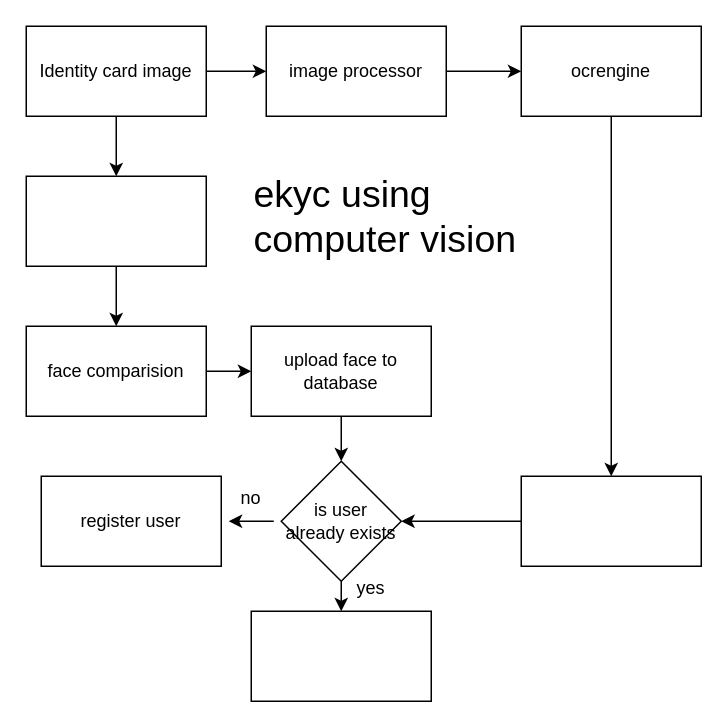
Image size: 728x728. Some labels were removed from this diagram. Each missing label, with the centre of its shape:
already exists: the point at 340,655
extract face: the point at 115,220
preprocessor: the point at 610,520
